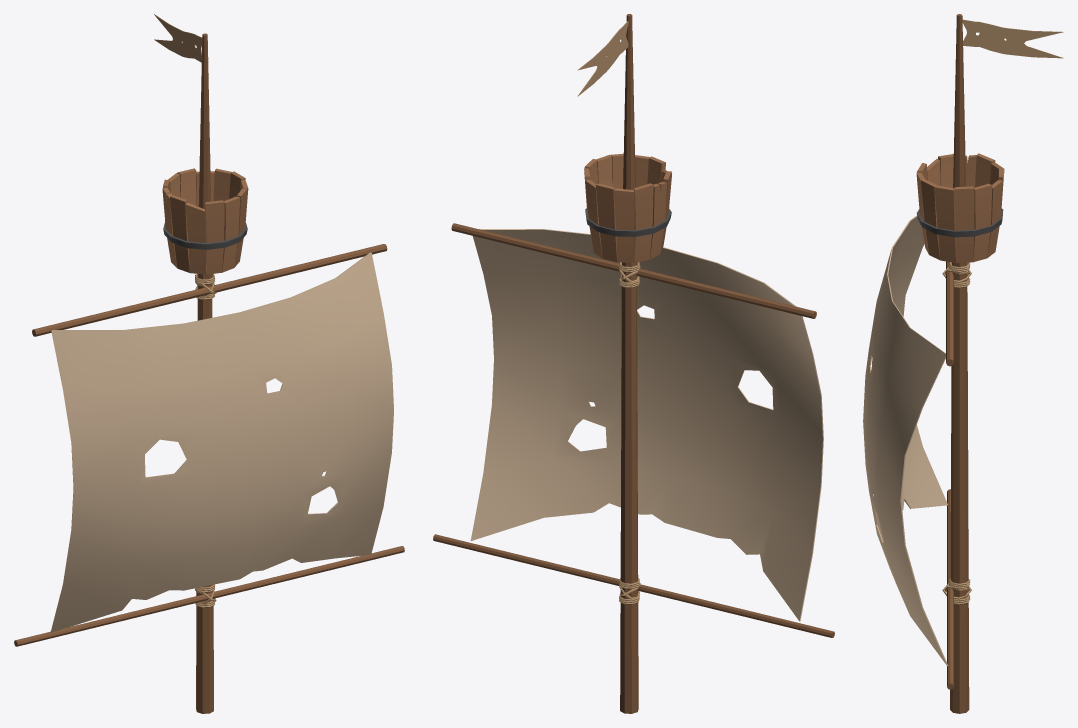
File: ShipPart_02.fbx
3 renders of one model, left to right at view 1: azimuth 30°, elevation 25°; view 2: azimuth 150°, elevation 25°; view 3: azimuth 270°, elevation 25°, orthographic. The views are drawn at different scales.
Parts seen in each view (by area): view 1: ShipPart_02_LOD0; view 2: ShipPart_02_LOD0; view 3: ShipPart_02_LOD0.
Part boxes in pixels (x1,y1,x2,y2): ShipPart_02_LOD0: [14, 14, 404, 713]; ShipPart_02_LOD0: [433, 14, 834, 713]; ShipPart_02_LOD0: [863, 14, 1063, 713].
Size of what is drawn, in the model's own units: 3.93 by 6.55 by 1.72.
